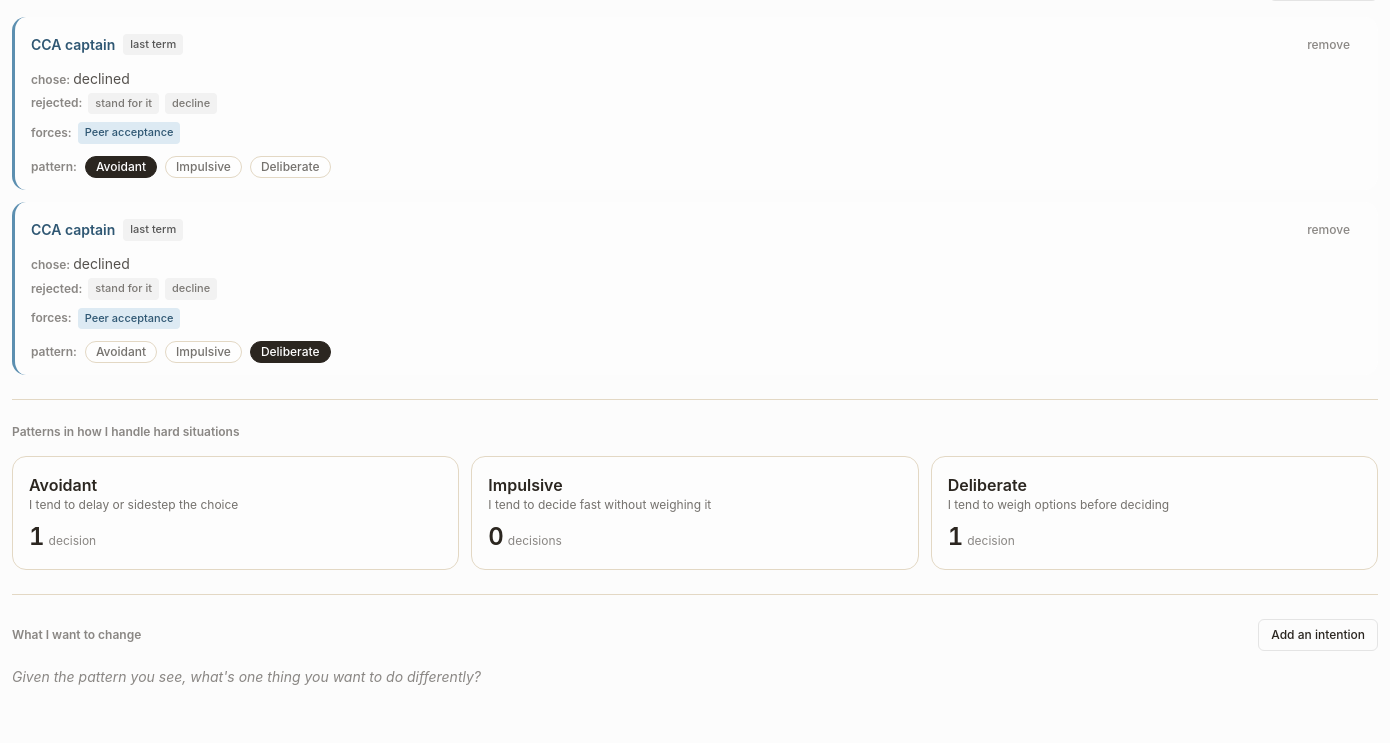
Test case: ChoicesPageView › Add an intention with no dominant pattern uses no default
(page scrolled)
Click the button with test id "choices-intentions-add" at (1318, 635), box [1258,619,1378,651]
(page scrolled)
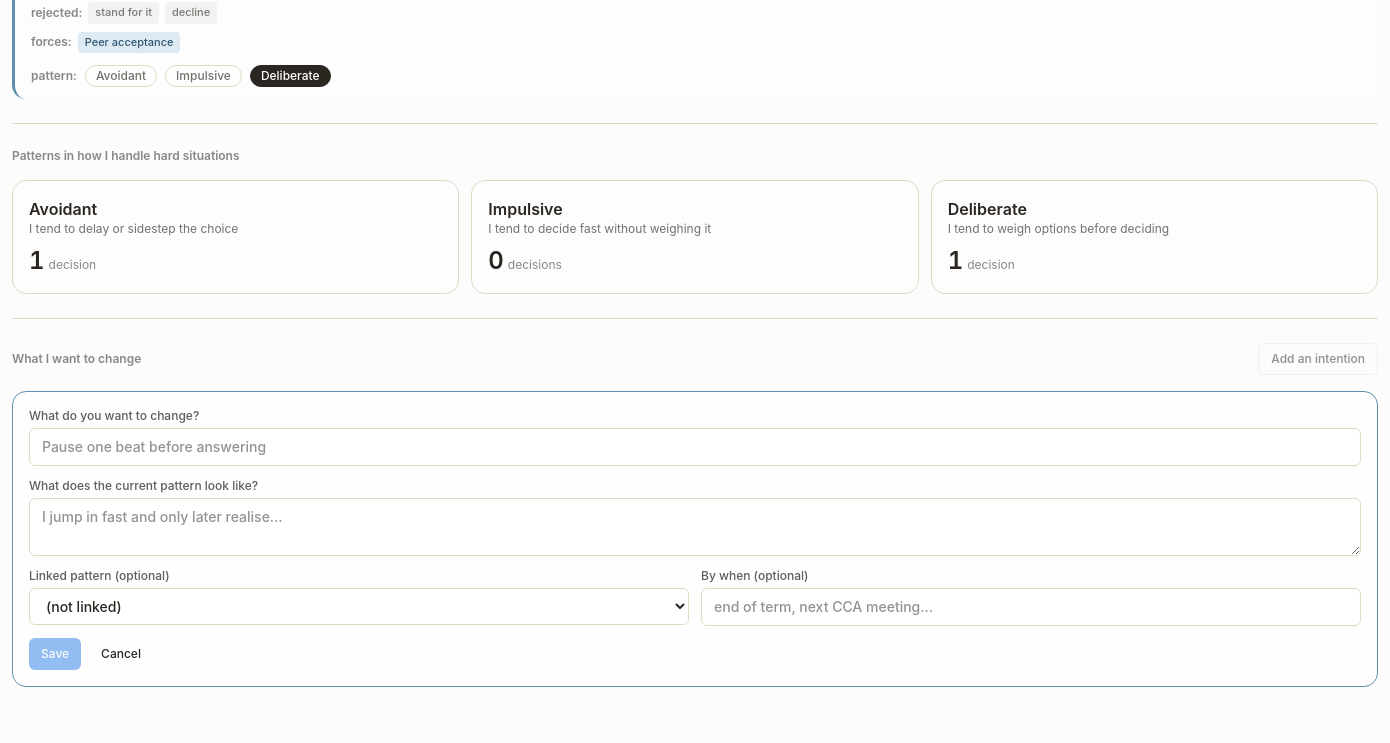
Check: the dropdown with test id "choices-intention-form-pattern" shows "(not linked)", box [29,588,689,625]
